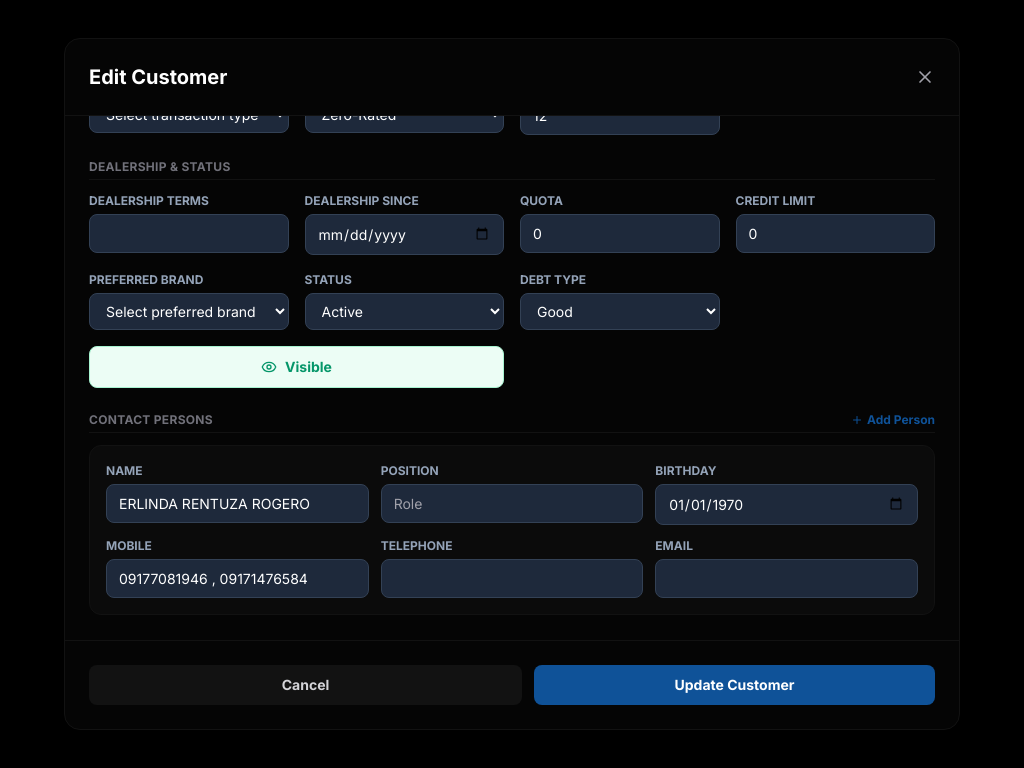
Test: AddContactModal legacy mobile on edit › still blocks when the user changes mobile to a new oversize value
(page scrolled)
Replace the text in the field showing "09177081946 , 09171476584" below "Mobile" with "09177081946 , 09999999999" at (237, 578), box [106,559,369,598]
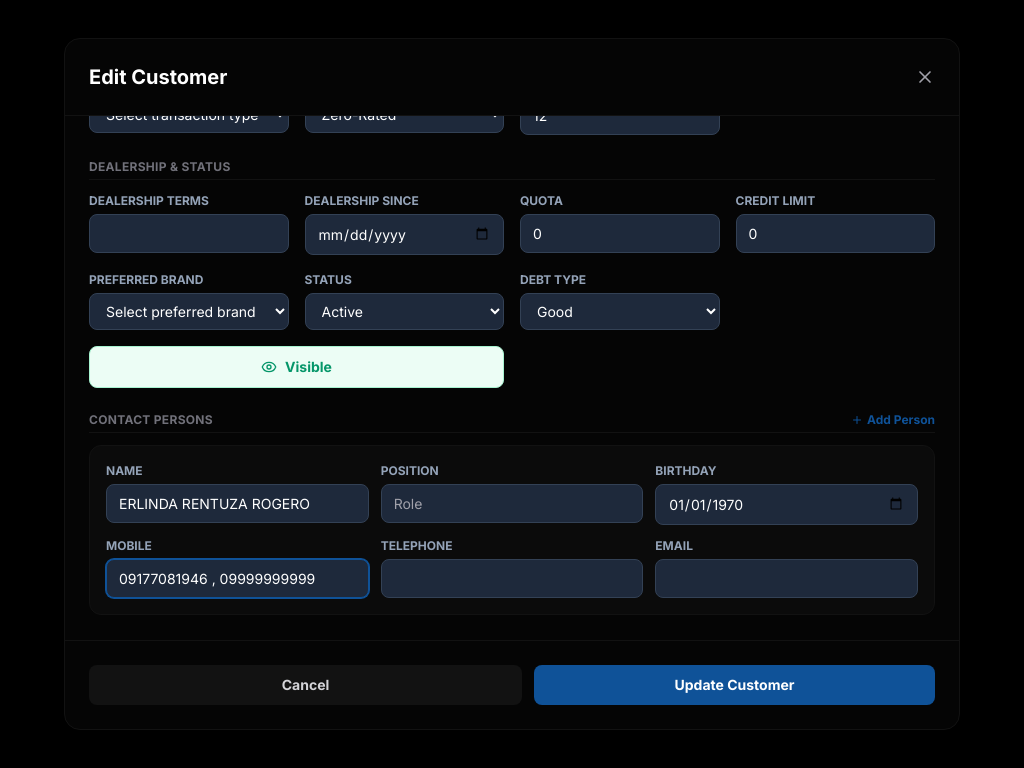
Select "Others" in the dropdown named "Preferred Brand" at (189, 311), box [89,293,288,330]
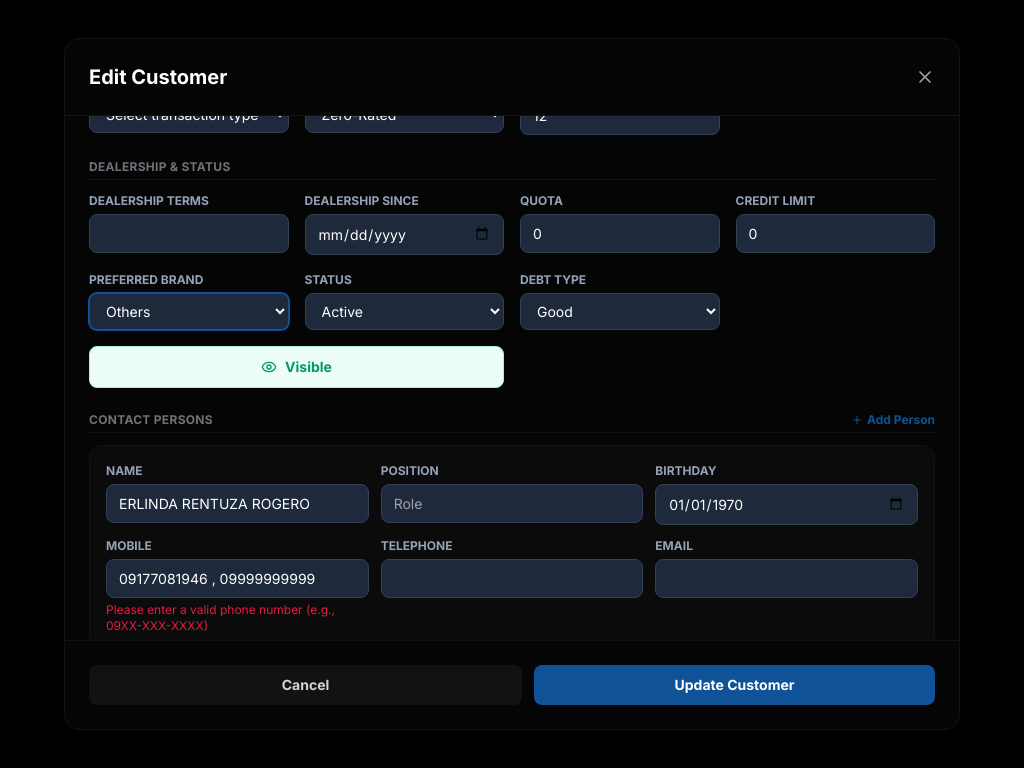
Click the button "Update Customer" at (734, 685), box [534,665,935,705]
(page scrolled)
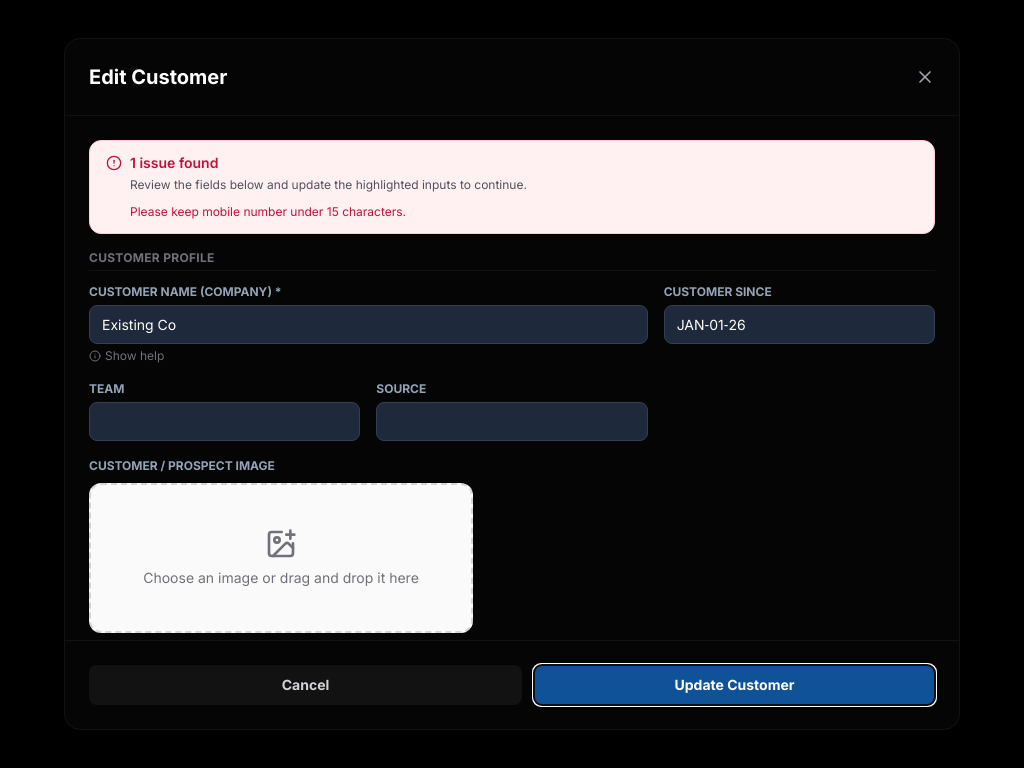
Result: the text "Please keep mobile number under 15 characters." is shown at [130,204,406,219]
